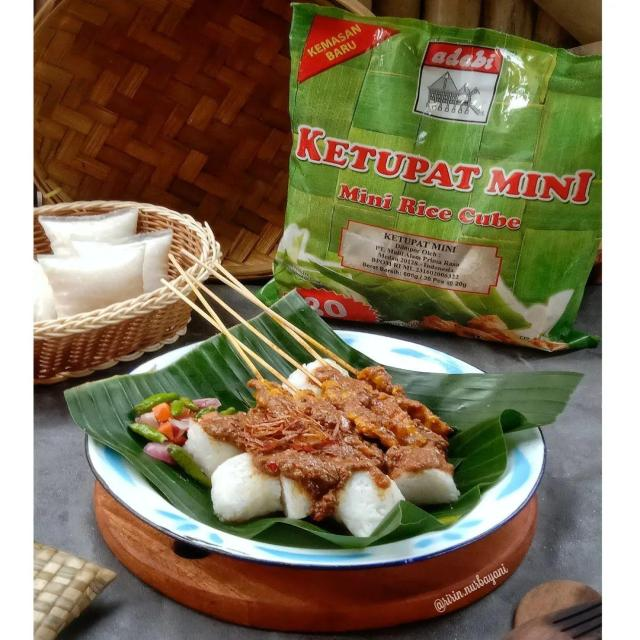Sate: (140, 239, 487, 485)
